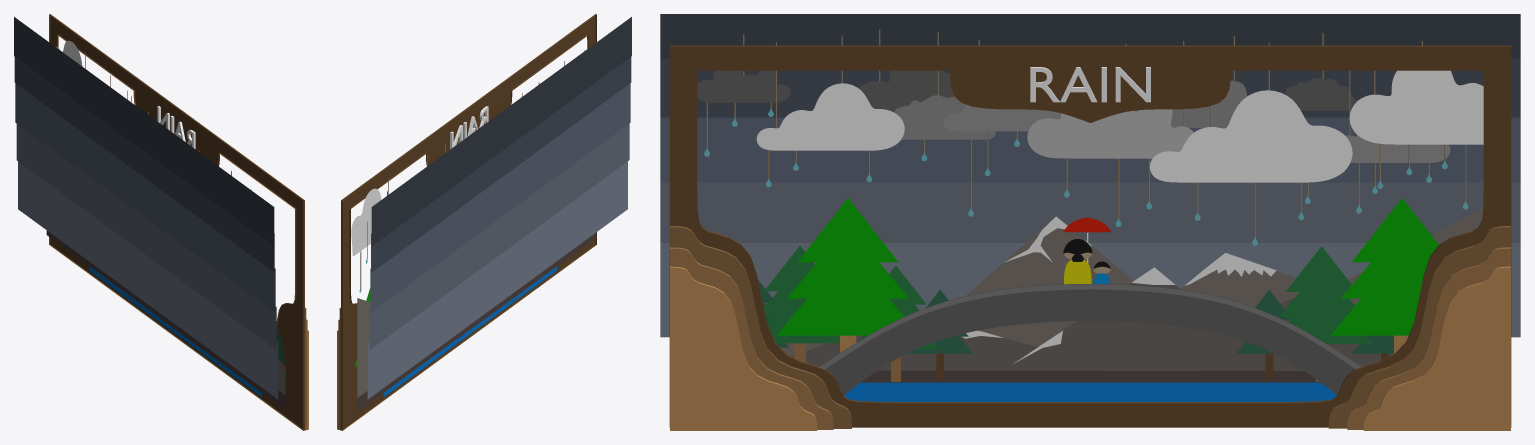
The model's file is Rain_scene.glb.
3 views of the same model, side by side, from view 1: azimuth 30°, elevation 25°; view 2: azimuth 150°, elevation 25°; view 3: azimuth 270°, elevation 25° (orthographic). The views are drawn at different scales.
Visible parts, largest first — view 1: Sky.003, Sky.005, Sky.001, RainWoodFront, Sky.002, Sky.004, Mountainbottom, River, Rain; view 2: Sky.003, Sky.005, Sky.001, Sky.002, RainWoodFront, Sky.004, Mountainbottom, Mountain, Nuage2, River, Rain; view 3: RainWoodFront, Sky.002, Sky.005, Sky.001, Pont, Sky.003, Mountain.001, RainWoodOrnement3R, RainWoodOrnement3L, Nuage5, Tree.005, River (+25 smaller).
Boxes of the visible parts, box(x1,y1,x2,y2) form: Sky.003: box(18, 161, 278, 399); Sky.005: box(14, 17, 274, 246); Sky.001: box(15, 83, 275, 312); RainWoodFront: box(49, 14, 304, 430); Sky.002: box(16, 124, 276, 350); Sky.004: box(14, 57, 274, 272); Mountainbottom: box(46, 230, 285, 409); River: box(89, 266, 262, 396); Rain: box(157, 106, 195, 149); Sky.003: box(367, 161, 627, 399); Sky.005: box(371, 17, 631, 246); Sky.001: box(370, 83, 630, 312); Sky.002: box(369, 123, 629, 350); RainWoodFront: box(341, 14, 596, 430); Sky.004: box(371, 57, 631, 272); Mountainbottom: box(357, 233, 596, 411); Mountain: box(357, 298, 370, 397); Nuage2: box(351, 188, 381, 256); River: box(383, 266, 556, 396); Rain: box(450, 106, 488, 149); RainWoodFront: box(669, 45, 1511, 427); Sky.002: box(660, 182, 1520, 242); Sky.005: box(660, 14, 1520, 58); Sky.001: box(660, 117, 1520, 182); Pont: box(819, 284, 1361, 395); Sky.003: box(660, 243, 1520, 337); Mountain.001: box(791, 283, 1393, 370); RainWoodOrnement3R: box(1363, 266, 1510, 430); RainWoodOrnement3L: box(670, 266, 817, 430); Nuage5: box(1149, 90, 1352, 182); Tree.005: box(777, 198, 908, 335); River: box(844, 382, 1336, 401).
Size of the model in its own units: 0.256 by 1.52 by 3.07.
